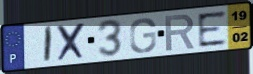3: (97, 18, 124, 60)
E: (195, 9, 228, 49)
G: (128, 16, 158, 54)
I: (42, 25, 55, 65)
R: (163, 13, 197, 53)
X: (55, 22, 87, 64)
